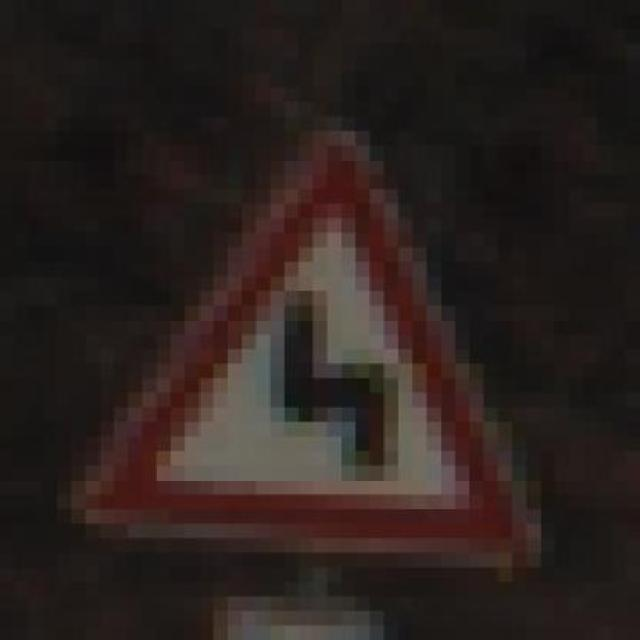Left Zig Zag Traffic: (57, 116, 569, 582)
